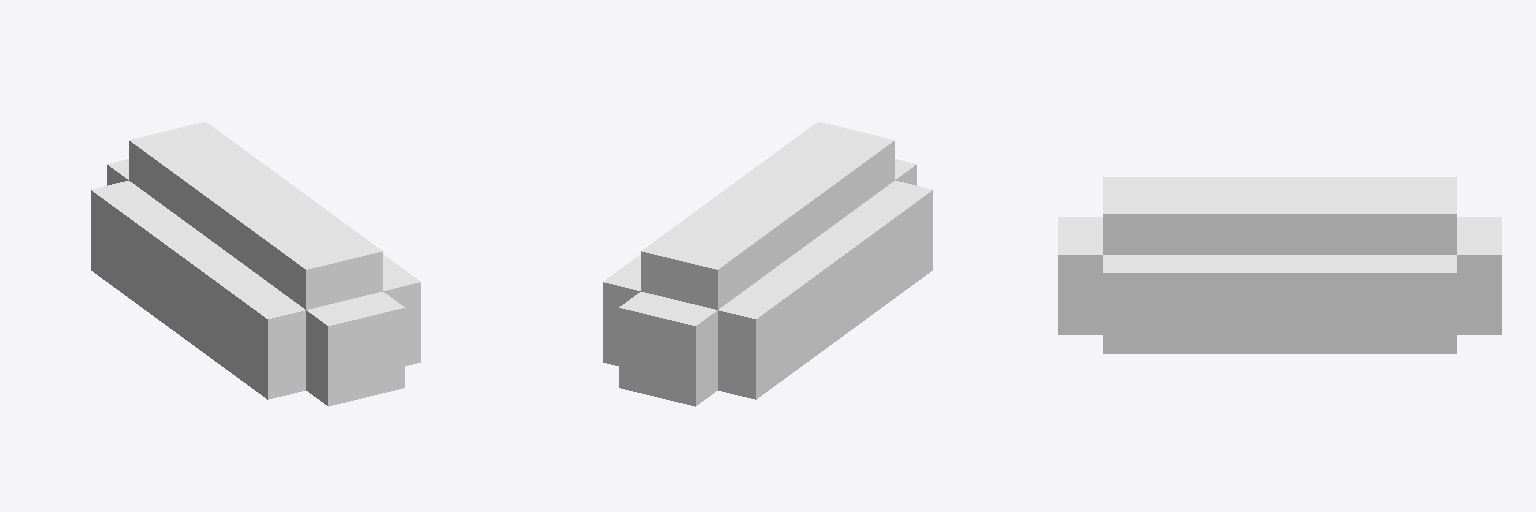
The model's file is IronIngot01.obj.
3 views of the same model, side by side, from view 1: azimuth 30°, elevation 25°; view 2: azimuth 150°, elevation 25°; view 3: azimuth 270°, elevation 25° (orthographic).
Visible parts, largest first — view 1: object 1; view 2: object 1; view 3: object 1.
Part boxes in pixels (x1,y1,x2,y2): object 1: (91,122,420,406); object 1: (603,122,932,406); object 1: (1058,177,1501,353).
Bounding box in the file's own units: 0.4 × 0.3 × 1.